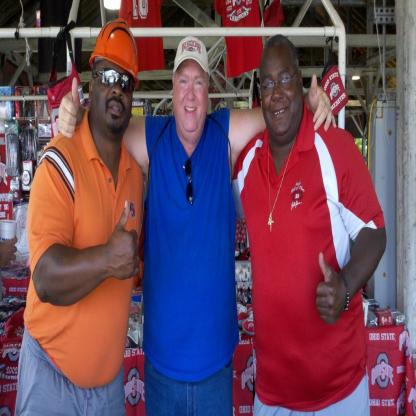Helmet: (88, 19, 140, 84)
